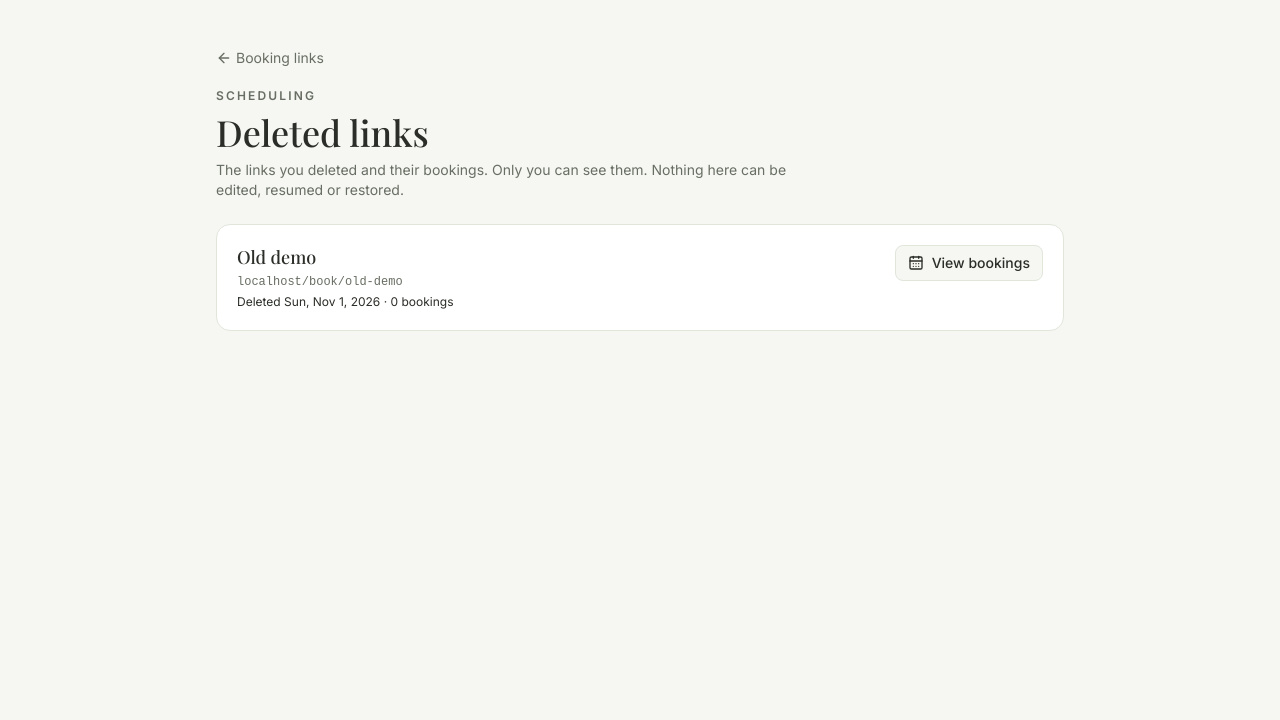
Test: PAC-40 archive page › a deleted link without bookings opens on an empty bookings state
Click the button with test id "archive-view-bookings": (969, 263) [895,245,1043,281]
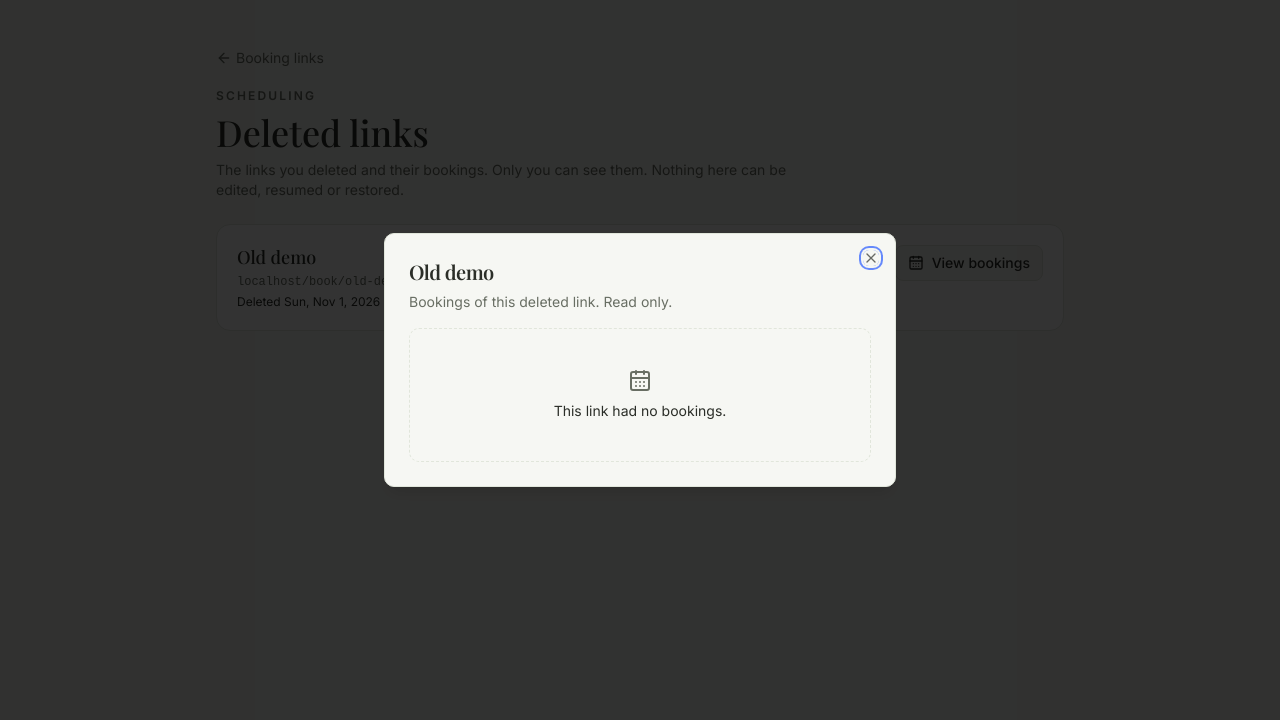
Expected: the element with test id "archive-bookings-empty" is shown, [409,328,871,462]
